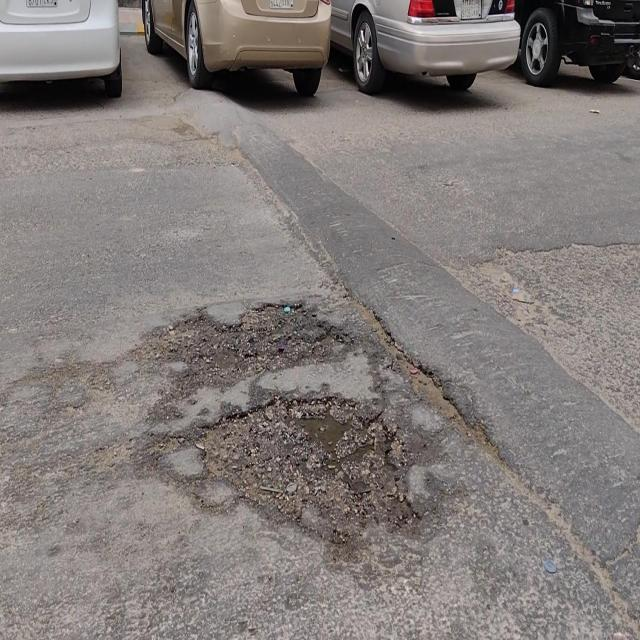Pothole: (200, 391, 422, 532), (161, 298, 346, 390)
Unmarked Bump: (181, 92, 640, 631)
